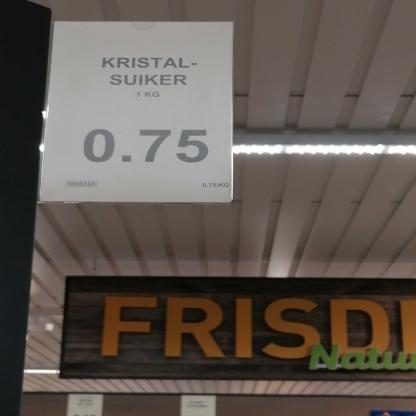prtg: (39, 21, 237, 205)
